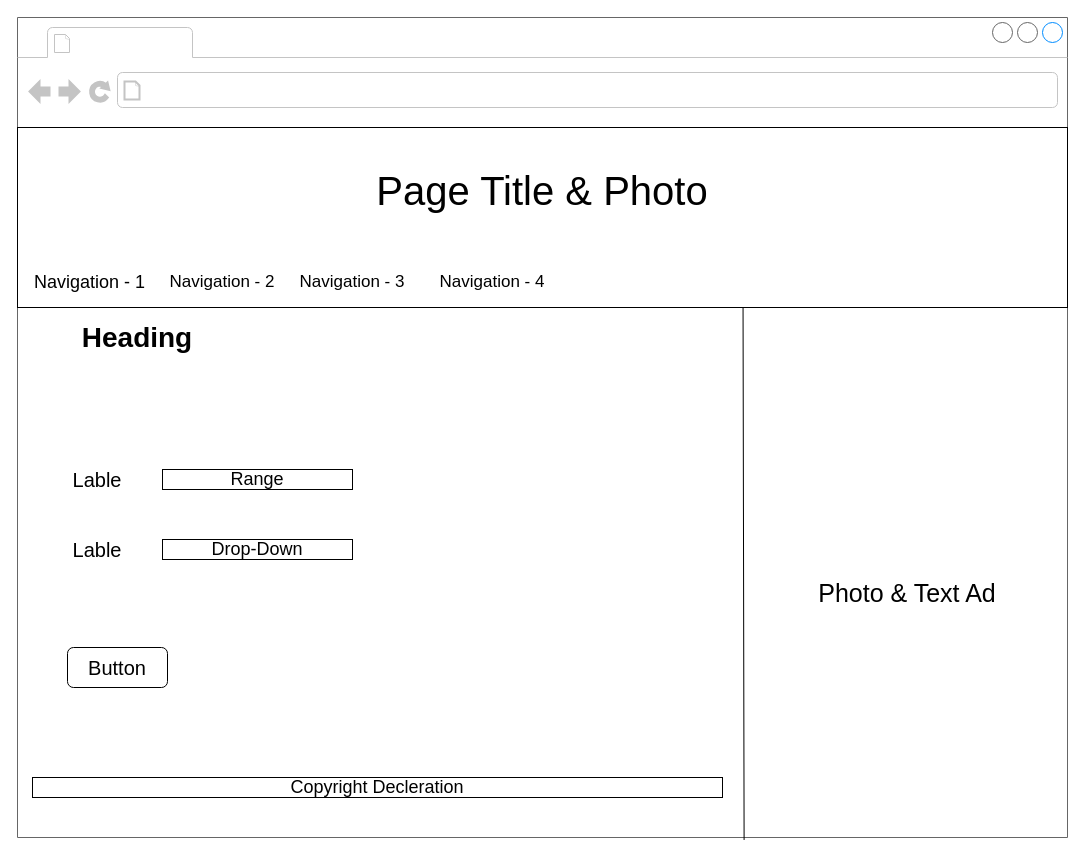
The diagram is 1085 pixels wide and 859 high, and some of its shapes have lost their labels. Each missing label, with the centre of its shape:
"https://www.default.com" goes at (x=272, y=90).
"Page 1" goes at (x=132, y=42).
